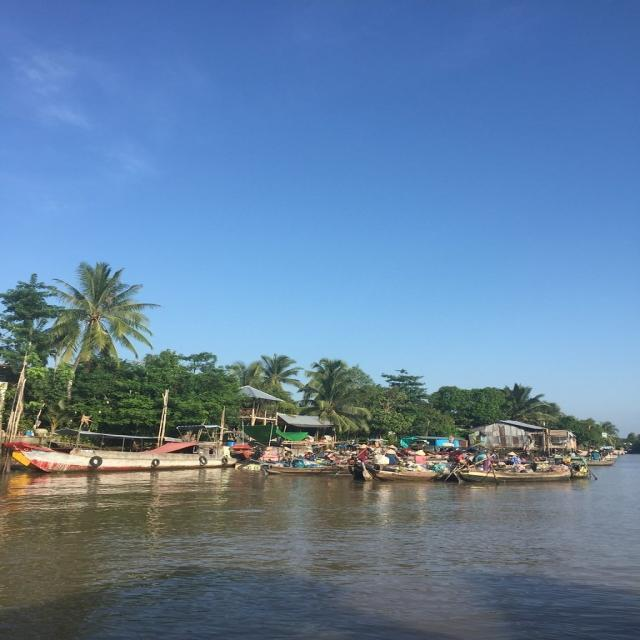boat: (13, 427, 241, 478), (362, 449, 437, 486), (460, 462, 574, 484), (268, 456, 349, 476)
